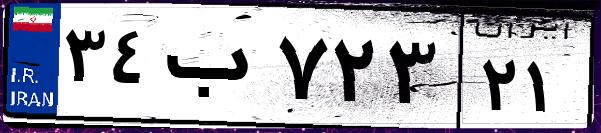1: (525, 38, 570, 115)
2: (330, 28, 385, 110), (475, 38, 525, 113)
3: (385, 28, 445, 110), (57, 26, 110, 100)
4: (110, 28, 158, 98)
7: (270, 28, 330, 110)
ب: (158, 20, 270, 120)
